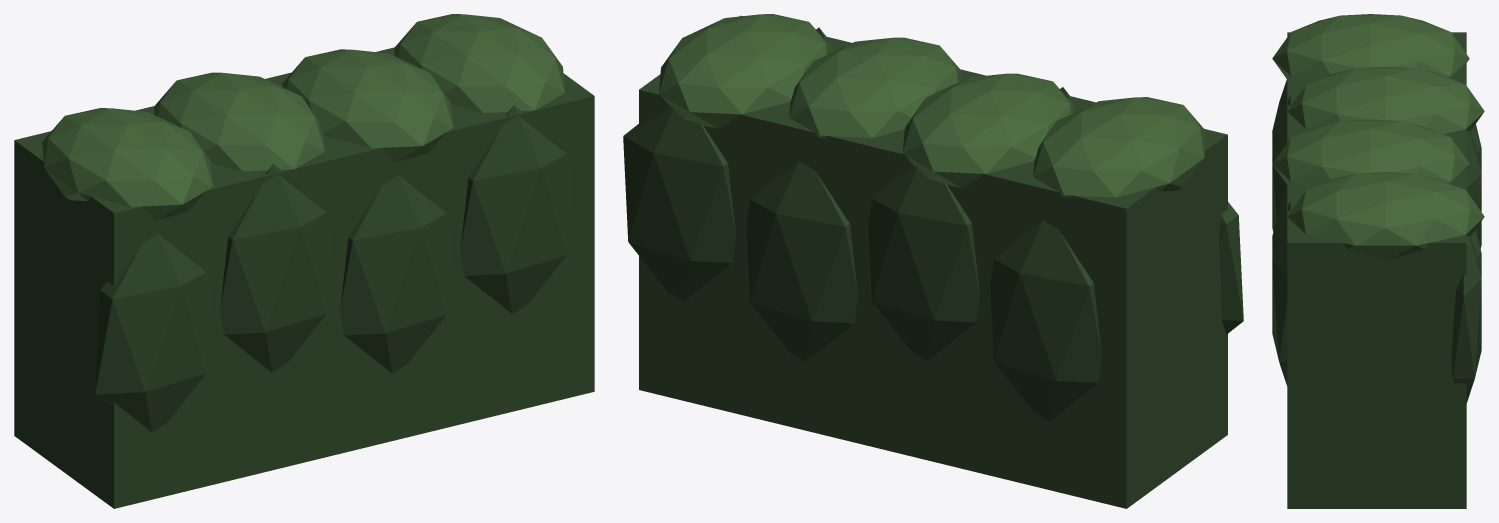
Rendered from hedge.glb.
3 views of the same model, side by side, from view 1: azimuth 30°, elevation 25°; view 2: azimuth 150°, elevation 25°; view 3: azimuth 270°, elevation 25° (orthographic). The views are drawn at different scales.
Parts seen in each view (by area): view 1: hedge; view 2: hedge; view 3: hedge.
Part boxes in pixels (x1,y1,x2,y2): hedge: (14, 14, 594, 508); hedge: (623, 14, 1243, 508); hedge: (1272, 14, 1484, 508).
Size of the model in its own units: 2.14 by 1.33 by 0.852.
